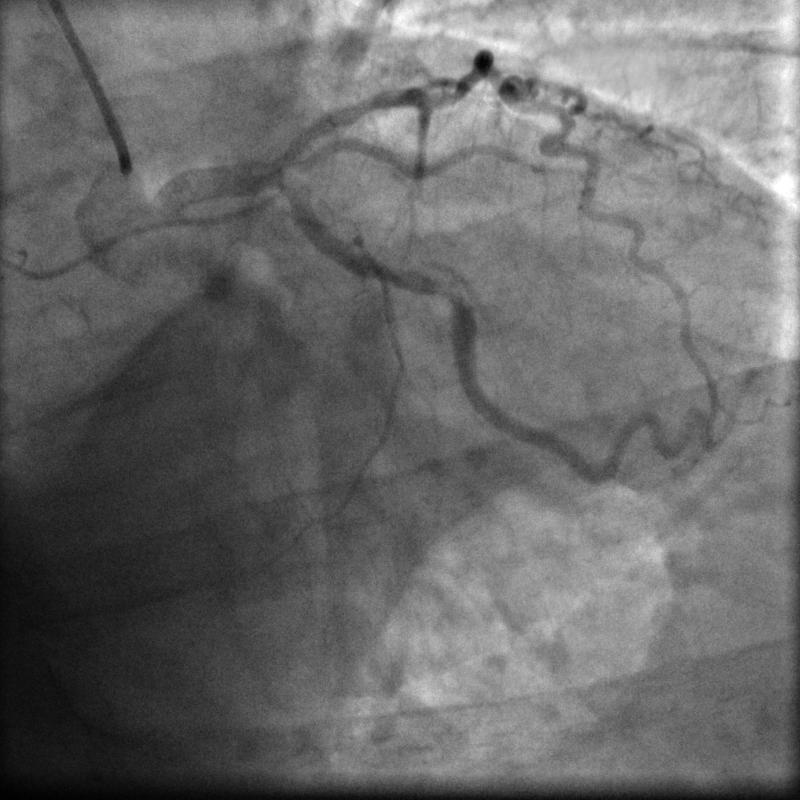Stenosis: (415, 274, 472, 312)
